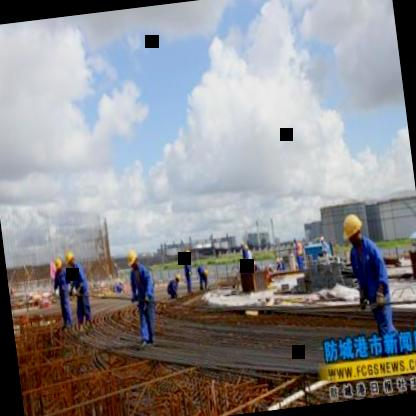helmet: (339, 210, 367, 247), (124, 246, 140, 270), (63, 246, 78, 270), (52, 254, 64, 276)
